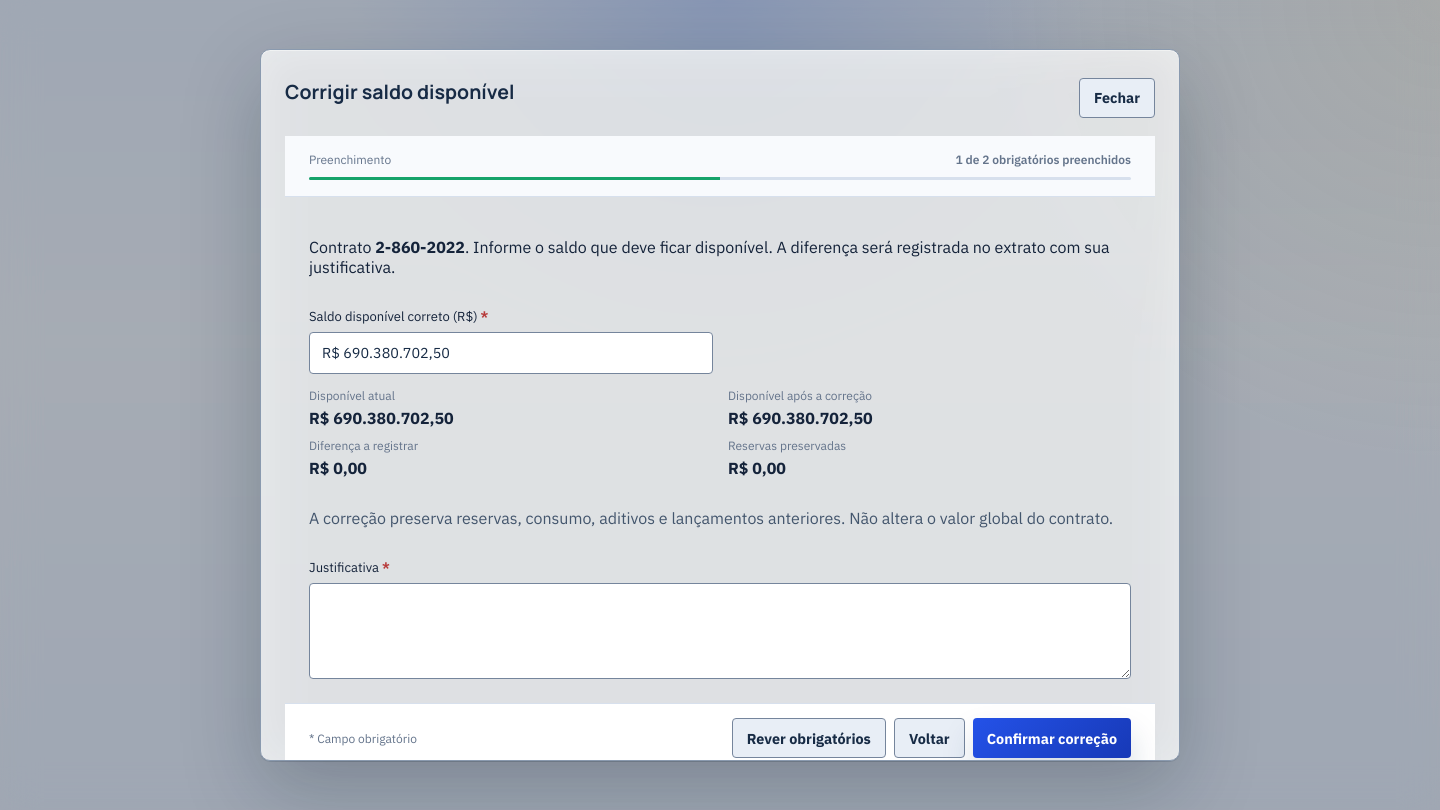
Scenario: preserva o valor e a justificativa quando o saldo muda no servidor
Replace the text in the field labelled "Saldo disponível correto (R$)" with "6.835.452,50". click: (511, 353)
box: [309, 332, 713, 374]
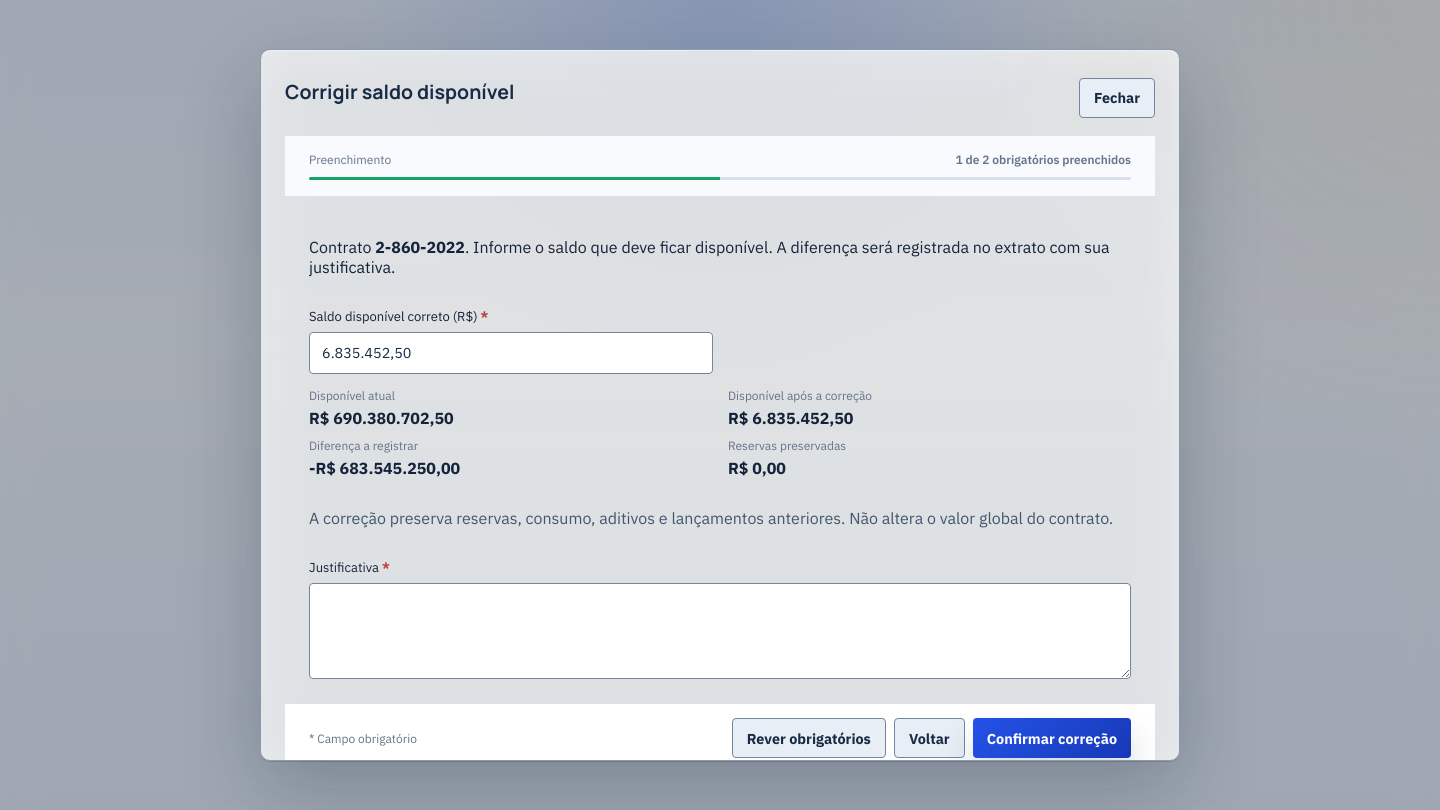
Type "Correção de digitação no saldo" into the text box labelled "Justificativa". click: (720, 631)
box: [309, 583, 1131, 679]
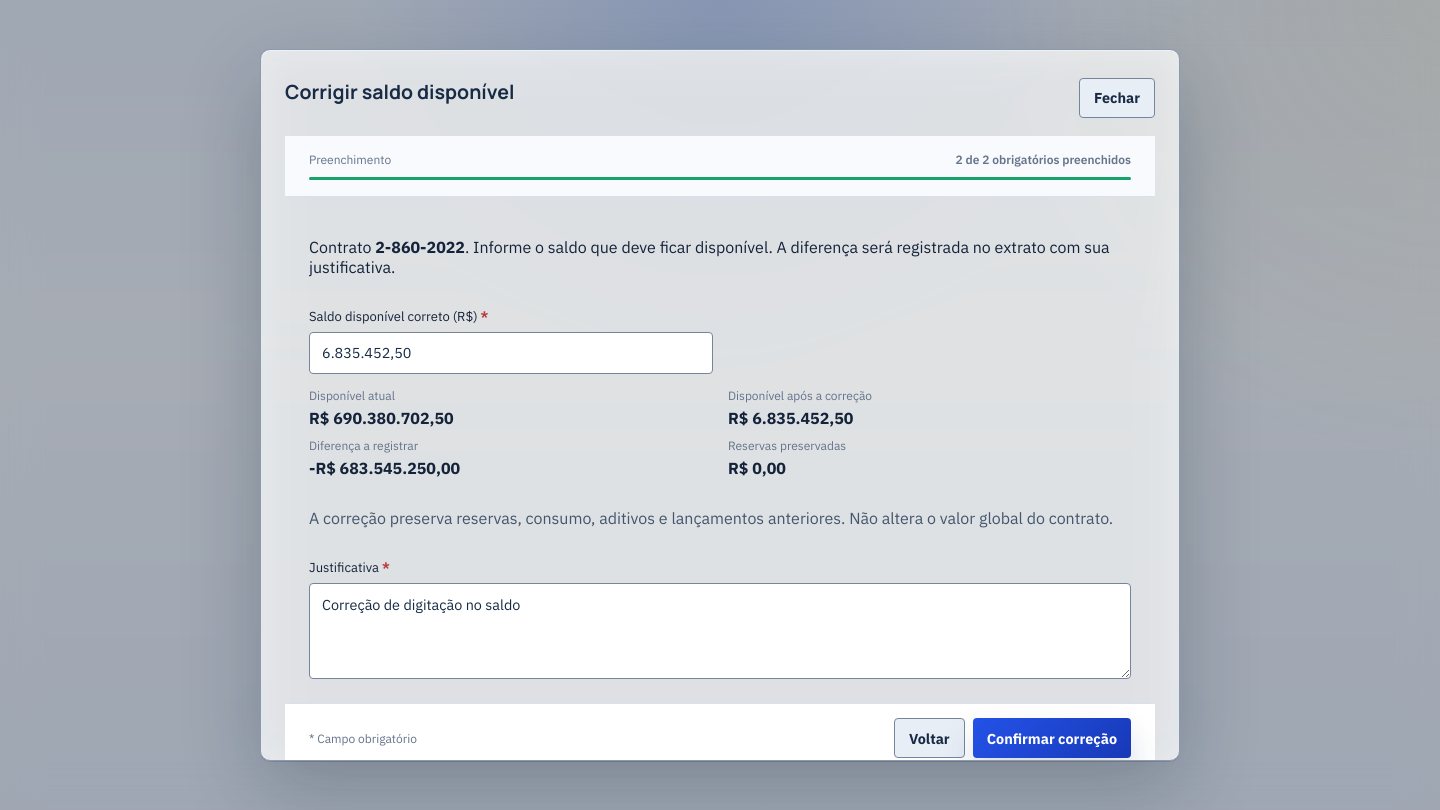
Click the button "Confirmar correção". click: (1052, 738)
box: [973, 718, 1131, 758]
(page scrolled)
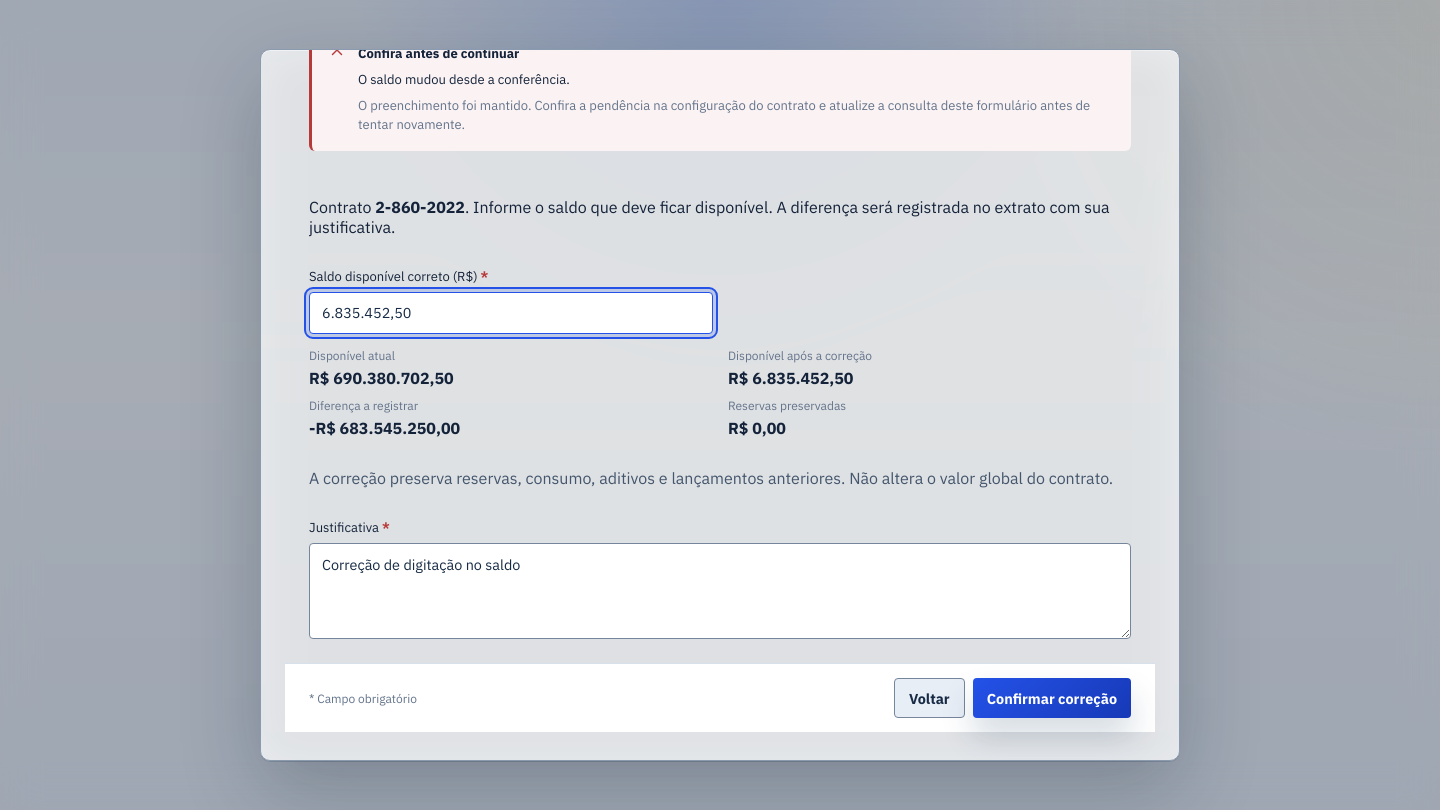
Expected: the message is shown, [309, 49, 1131, 151]
